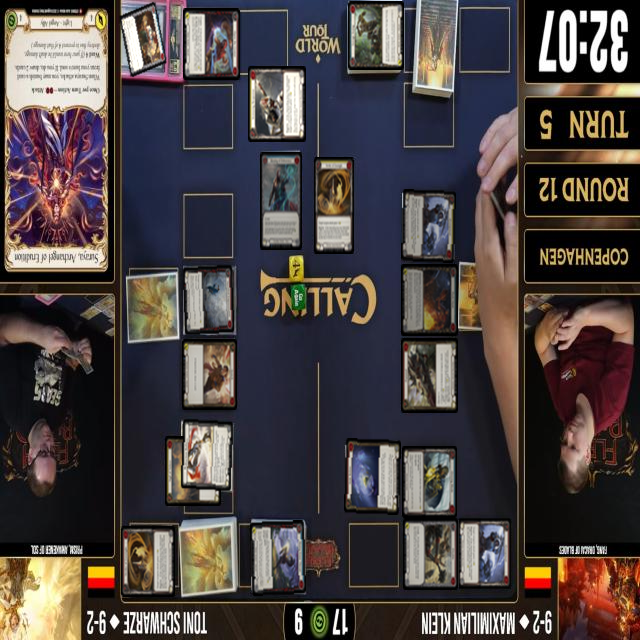Ancestral_Empowerment_WTR082: (182, 264, 235, 336)
Blessing_of_Deliverance_WTR056: (259, 151, 302, 249)
Disable_WTR048: (402, 518, 458, 590)
Driving_Blade_WTR146: (401, 446, 457, 518)
Ironsong_Response_WTR133: (247, 66, 305, 142)
Open_the_Center_WTR095: (183, 8, 240, 80)
Overpower_WTR123: (457, 516, 512, 589)
Overpower_WTR124: (400, 189, 456, 263)
Pack_Hunt_WTR025: (400, 264, 457, 336)
Pummel_WTR206: (400, 338, 457, 413)
Refraction_Bolters_WTR117: (179, 417, 234, 491)
Rising_Knee_Thrust_WTR106: (249, 520, 306, 596)
Savage_Swing_WTR022: (347, 0, 403, 70)
Sigil_of_Solace_WTR174: (164, 435, 220, 505)
Sink_Below_WTR215: (343, 437, 401, 515)
Snatch_WTR167: (181, 339, 237, 409)
Stonewall_Confidence_WTR074: (119, 0, 167, 78)
Stroke_of_Foresight_WTR138: (120, 526, 174, 597)
Stroke_of_Foresight_WTR139: (314, 156, 354, 253)
